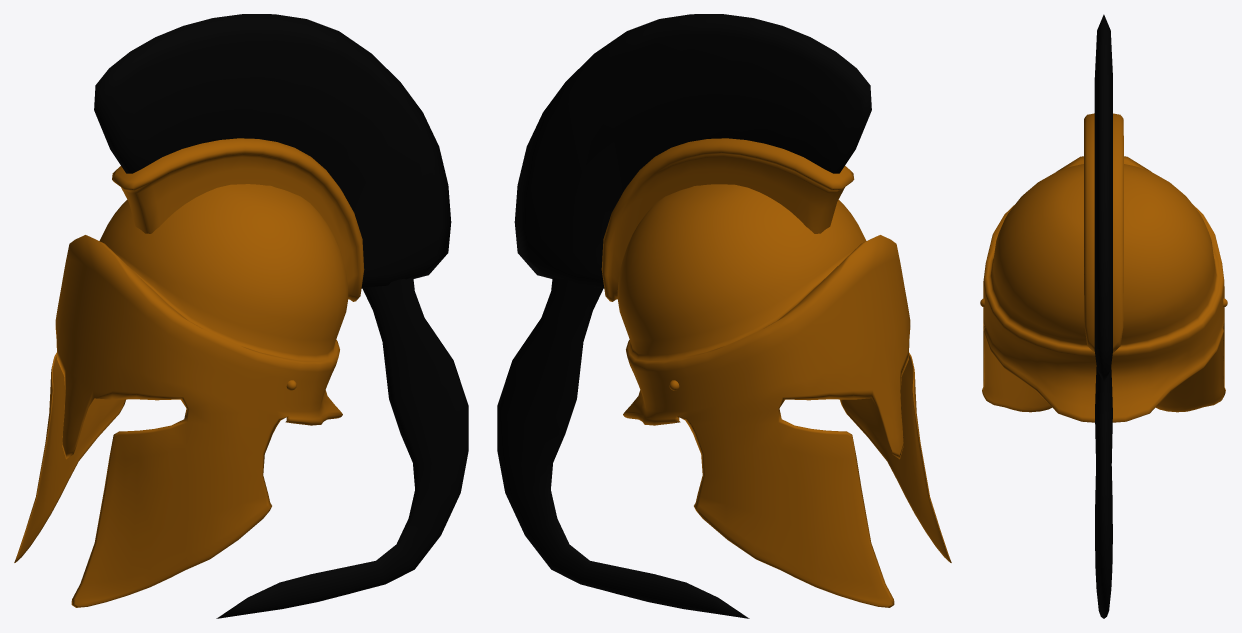
Rendered from Helmet.fbx.
3 views of the same model, side by side, from view 1: azimuth 30°, elevation 25°; view 2: azimuth 150°, elevation 25°; view 3: azimuth 270°, elevation 25° (orthographic). The views are drawn at different scales.
Parts seen in each view (by area): view 1: Sphere001; view 2: Sphere001; view 3: Sphere001.
Boxes of the visible parts, left/top/right/bottom form: Sphere001: left=14, top=14, right=468, bottom=618; Sphere001: left=497, top=14, right=951, bottom=618; Sphere001: left=980, top=14, right=1227, bottom=618.
Bounding box in the file's own units: 285 × 390 × 172.
